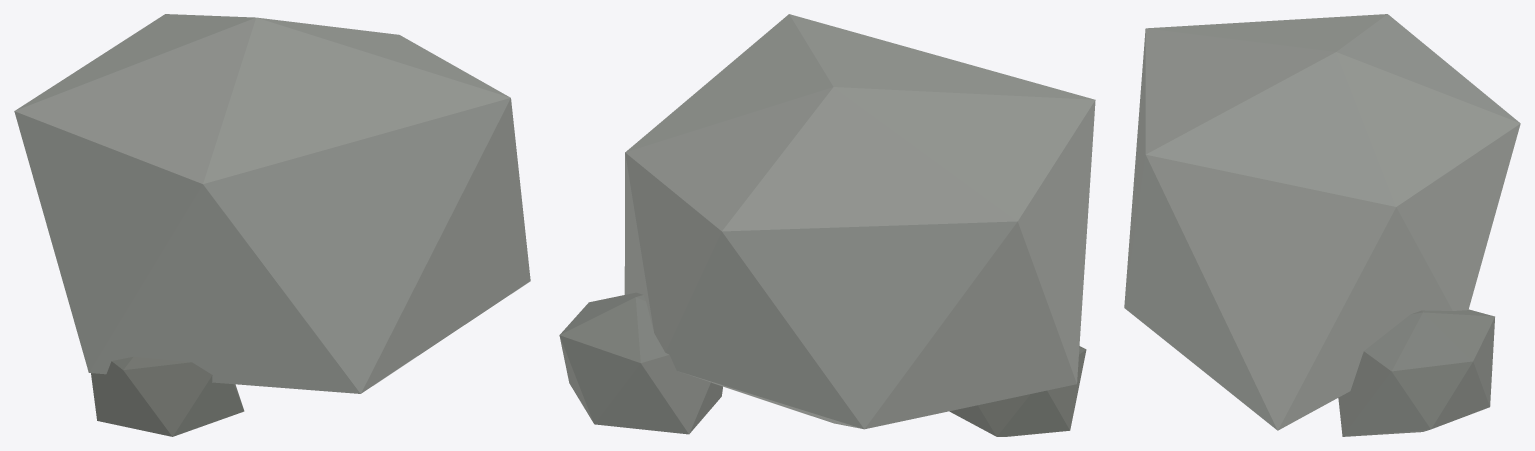
Rendered from rock.glb.
3 views of the same model, side by side, from view 1: azimuth 30°, elevation 25°; view 2: azimuth 150°, elevation 25°; view 3: azimuth 270°, elevation 25° (orthographic). The views are drawn at different scales.
Visible parts, largest first — view 1: Rock; view 2: Rock; view 3: Rock.
Boxes of the visible parts, x1,y1,x2,y2 form: Rock: [14, 14, 530, 436]; Rock: [559, 14, 1095, 436]; Rock: [1124, 14, 1520, 436].
Bounding box in the file's own units: 1.87 × 1.36 × 1.55.
1 material, 1 textured.
